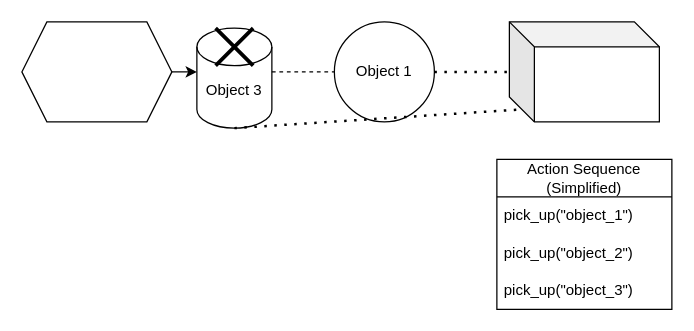
Image size: 694x331. Some labels were removed from this diagram. Here are the shapes that lost their labels. From the top down, the centre of each, then its label:
the point at 96,71: Kinova ARM
the point at 583,71: Object 2
